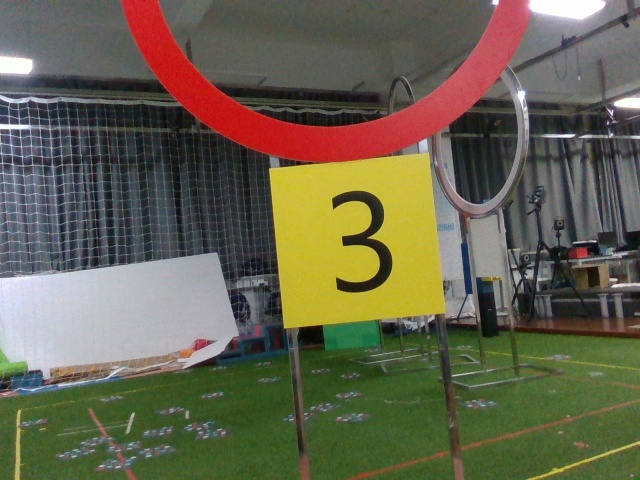target: (285, 166, 436, 318)
